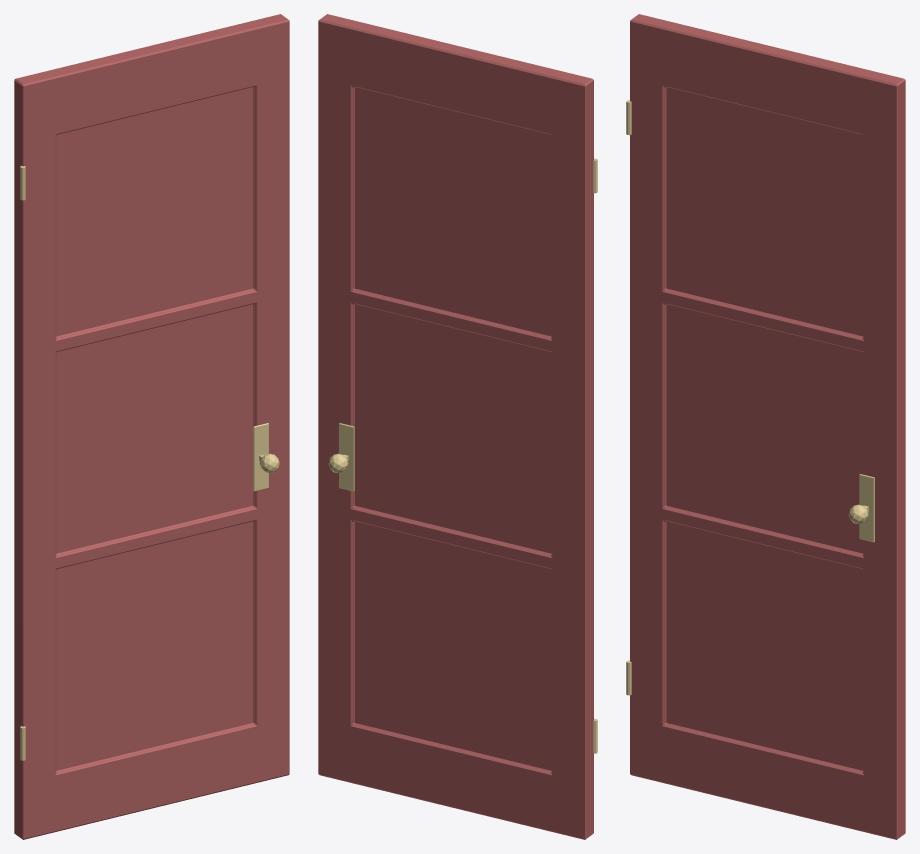
File: door_leaf_side.glb
3 views of the same model, side by side, from view 1: azimuth 30°, elevation 25°; view 2: azimuth 150°, elevation 25°; view 3: azimuth 330°, elevation 25° (orthographic).
Visible parts, largest first — view 1: door_leaf_side_door, door_leaf_side_brass; view 2: door_leaf_side_door, door_leaf_side_brass; view 3: door_leaf_side_door, door_leaf_side_brass.
Part boxes in pixels (x1,y1,x2,y2): door_leaf_side_door: (14,14,289,839); door_leaf_side_brass: (20,166,279,760); door_leaf_side_door: (318,14,593,839); door_leaf_side_brass: (328,158,597,753); door_leaf_side_door: (630,14,905,839); door_leaf_side_brass: (626,100,874,695).
Size of the model in its own units: 0.868 by 2.32 by 0.206.
